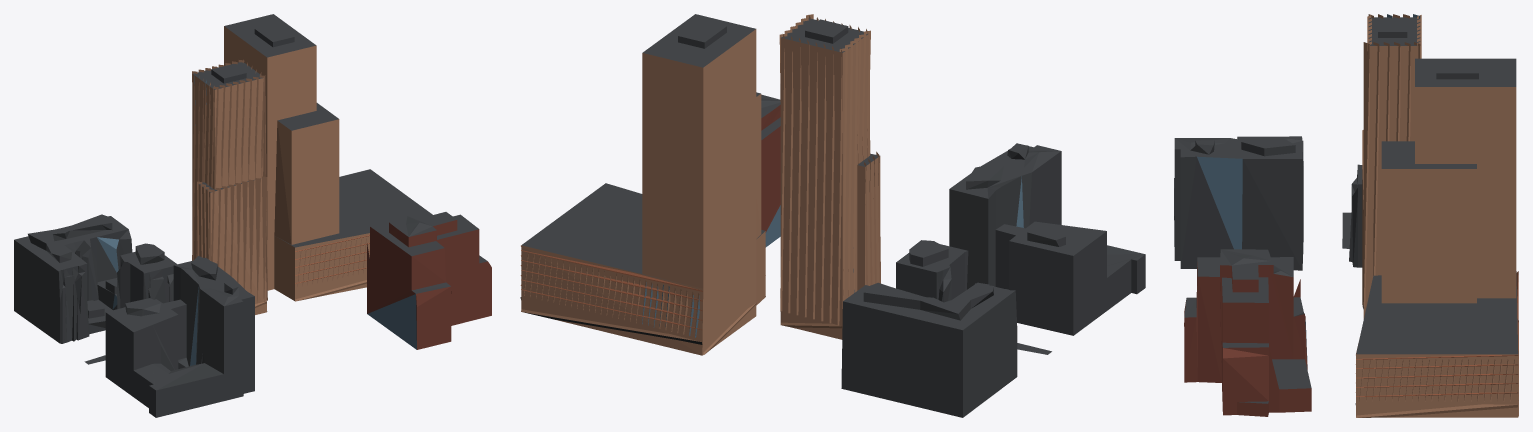
Rendered from symphony.lod2.glb.
3 renders of one model, left to right at view 1: azimuth 30°, elevation 25°; view 2: azimuth 150°, elevation 25°; view 3: azimuth 270°, elevation 25°, orthographic. The views are drawn at different scales.
Visible parts, largest first — view 1: lod2; view 2: lod2; view 3: lod2.
Boxes of the visible parts, box(x1,y1,x2,y2) form: lod2: box(14, 14, 491, 417); lod2: box(520, 14, 1145, 417); lod2: box(1174, 14, 1518, 417).
Size of the model in its own units: 167 by 105 by 117.
